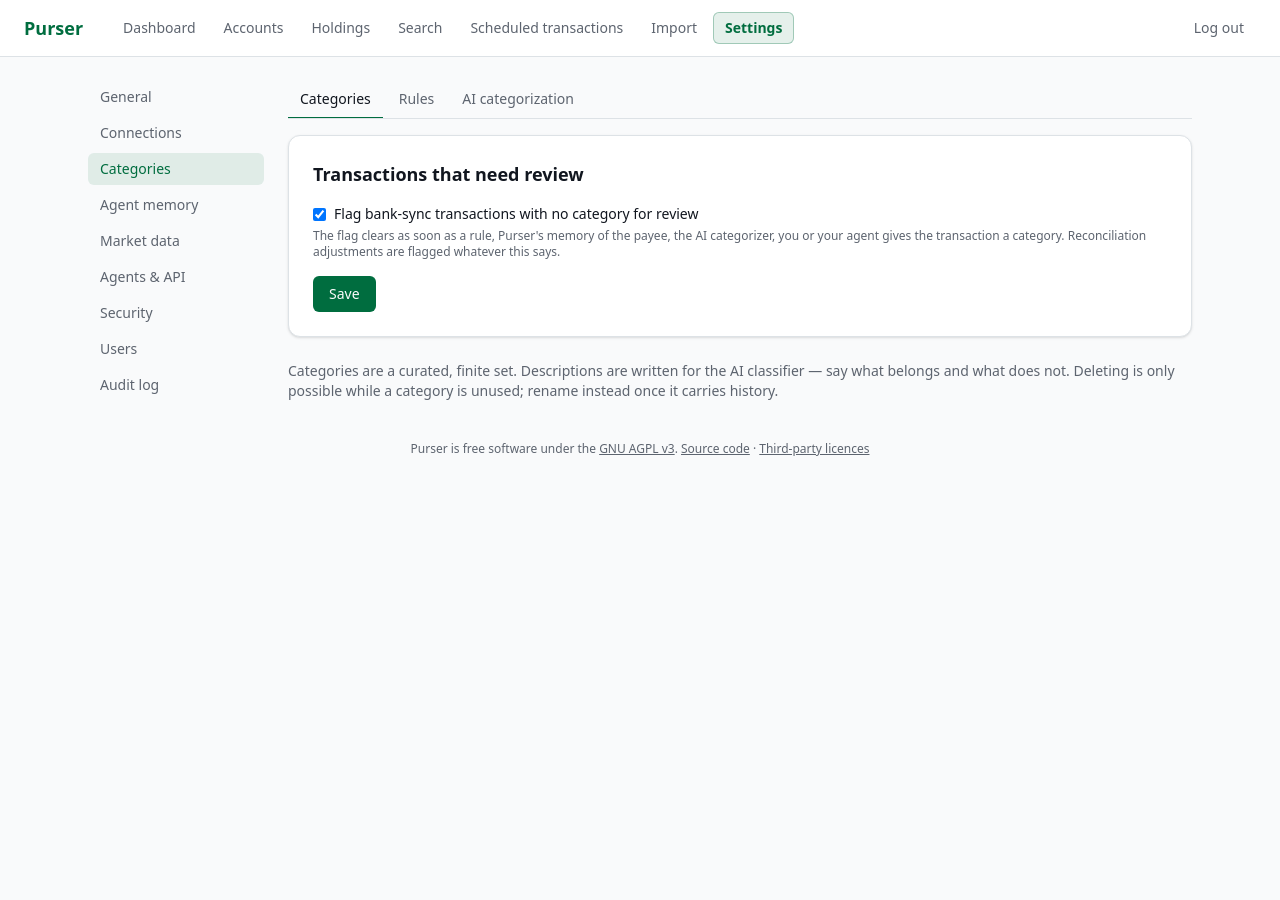
Test: Settings, Categories tabs (#694) › moves between tabs, keeping Categories current in the section list
Click the link "Rules". click: {"x": 416, "y": 98}
box: [399,89,434,108]
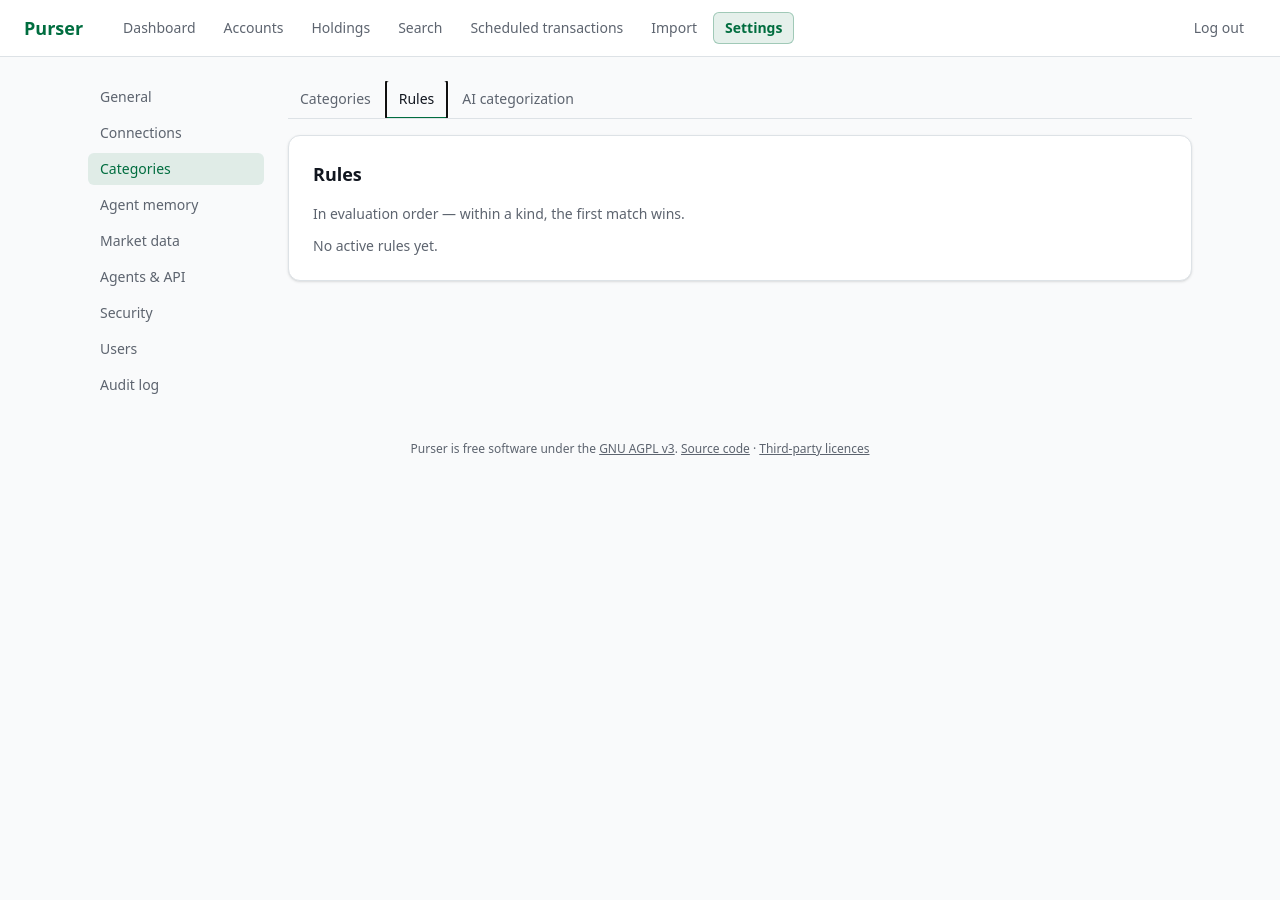
Now the text "No active rules yet." is shown, box [313,236,438,255]
Click the link "AI categorization". click: {"x": 518, "y": 98}
box: [462,89,574,108]
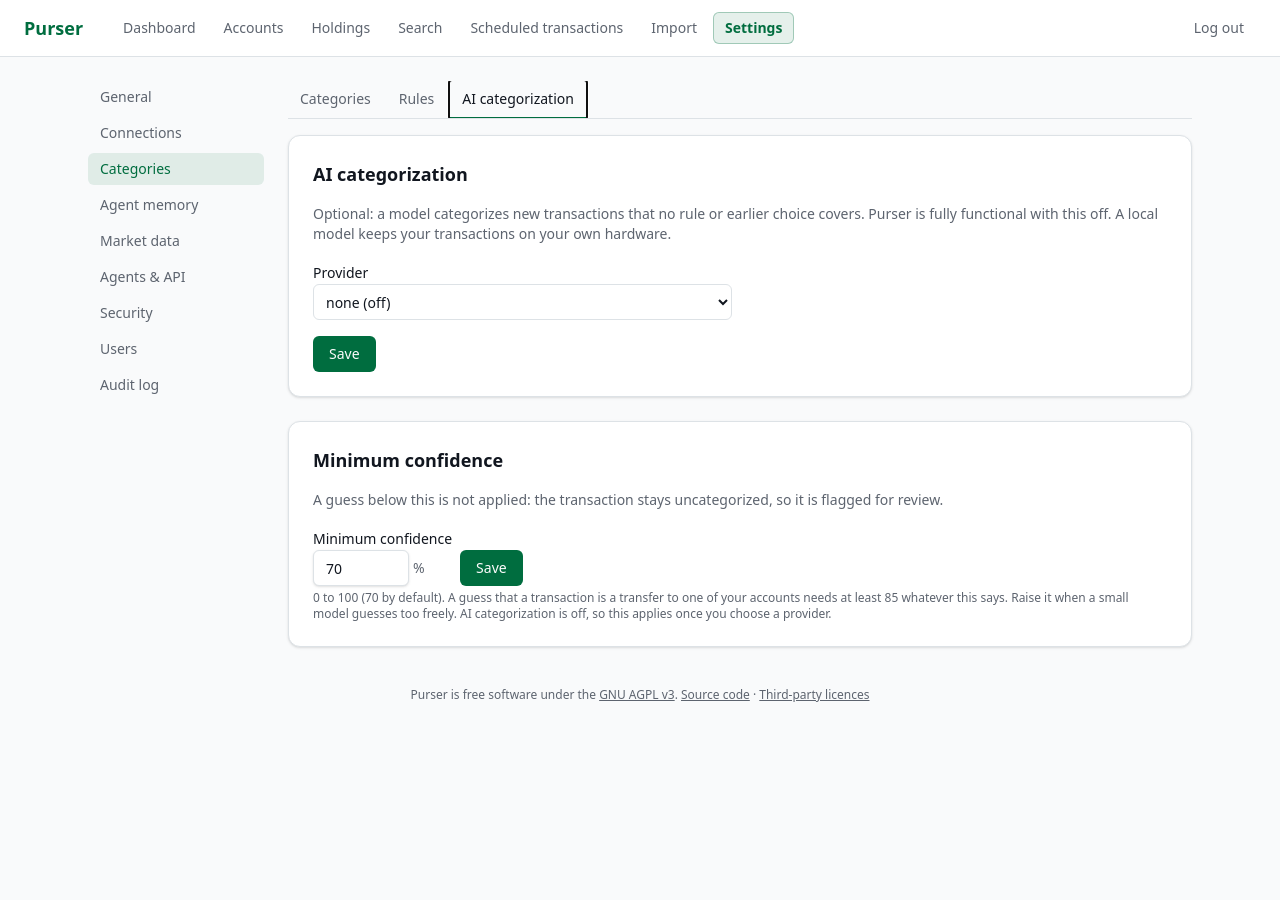
Now the heading "Minimum confidence" is shown, box [313,448,503,472]
Now the dropdown labelled "Provider" shows "none (off)", box [313,284,732,320]
